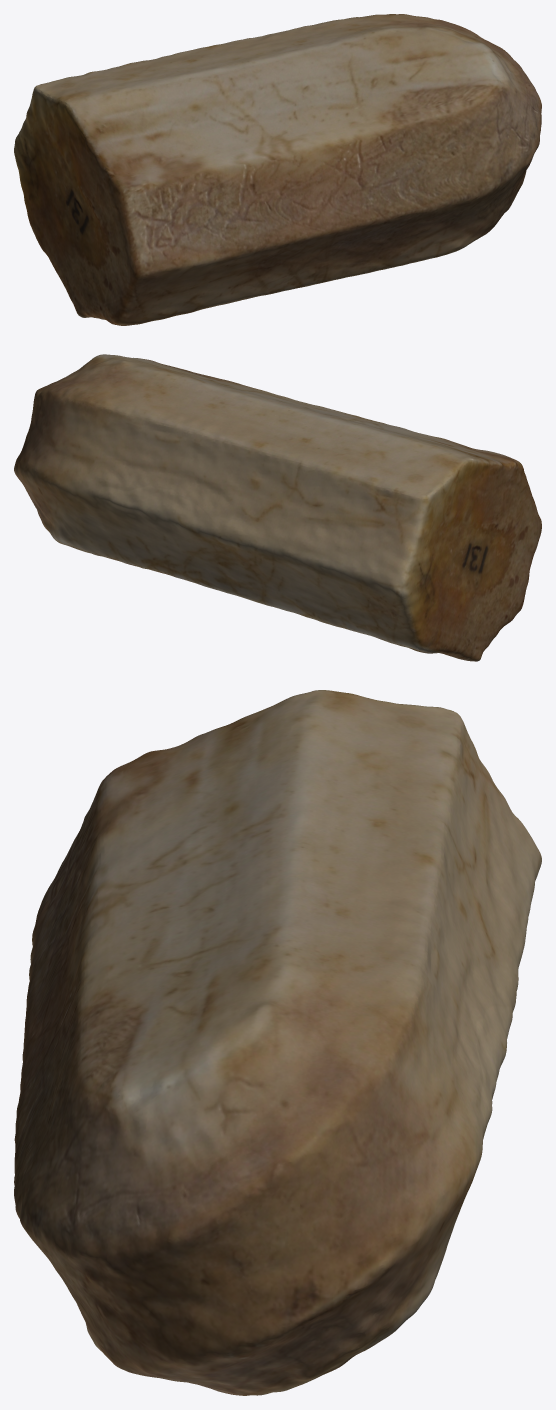
The model's file is complete.fbx.
3 renders of one model, top to bottom at view 1: azimuth 30°, elevation 25°; view 2: azimuth 150°, elevation 25°; view 3: azimuth 270°, elevation 25°, orthographic. The views are drawn at different scales.
Parts seen in each view (by area): view 1: pawn131; view 2: pawn131; view 3: pawn131.
Part boxes in pixels (x1=…): pawn131: x1=14, y1=14, x2=541, y2=325; pawn131: x1=14, y1=354, x2=541, y2=661; pawn131: x1=14, y1=690, x2=541, y2=1395.
Size of the model in its own units: 181 by 82.13 by 99.01.
